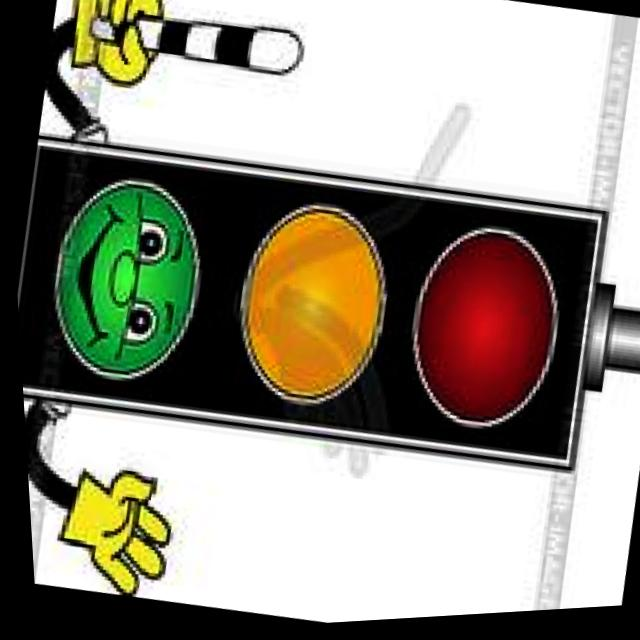red_light: (337, 96, 609, 499)
yellow_light: (156, 142, 432, 517)
